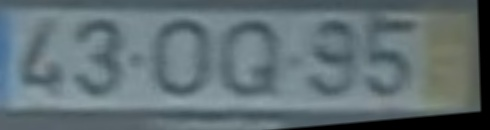3: (72, 18, 133, 107)
4: (11, 19, 69, 107)
5: (363, 19, 418, 102)
9: (308, 18, 359, 101)
O: (152, 18, 213, 106)
Q: (219, 20, 288, 102)
